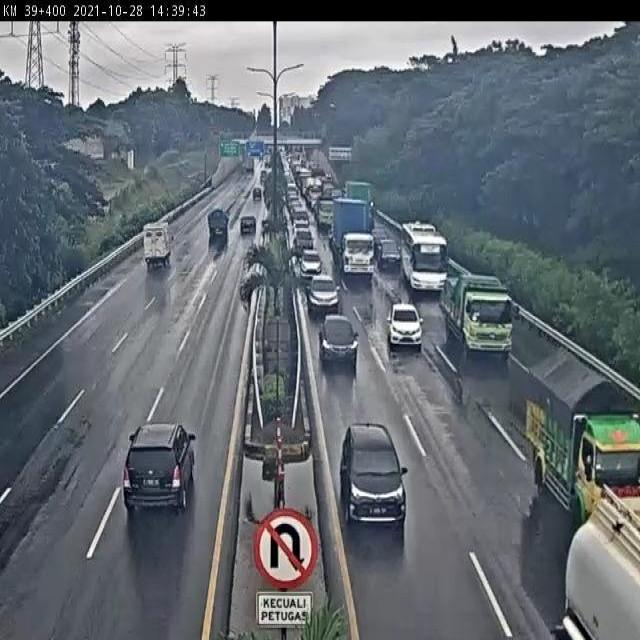big bus: (398, 219, 444, 288)
big truck: (332, 196, 373, 277)
car: (339, 421, 408, 527), (121, 425, 198, 512), (319, 312, 360, 368), (386, 301, 424, 352), (308, 272, 341, 317), (375, 237, 403, 268), (299, 248, 322, 281), (238, 212, 260, 239)
mid truck: (439, 269, 515, 352)
small truck: (138, 219, 175, 268), (205, 210, 230, 242)
truck-m-: (523, 344, 640, 516)
